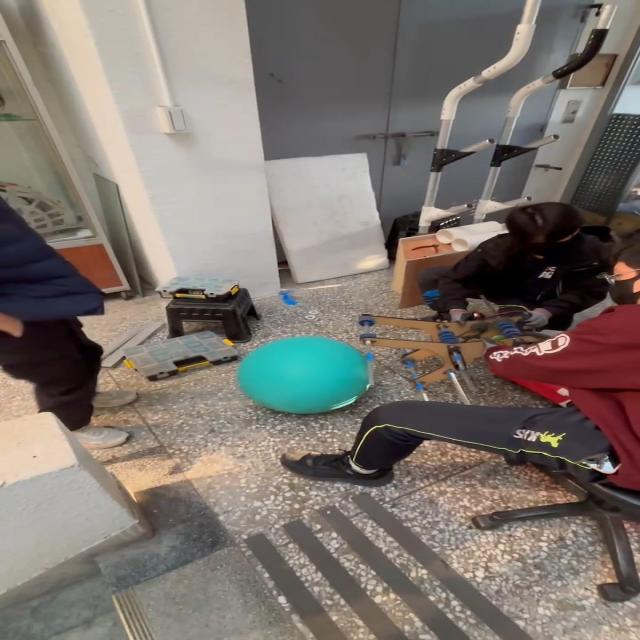ALGAE: (234, 335, 372, 415)
